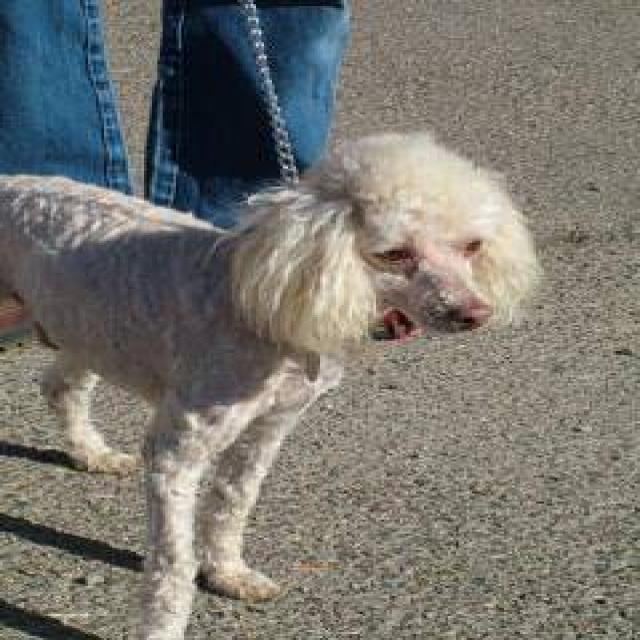Dog: (238, 139, 542, 347)
